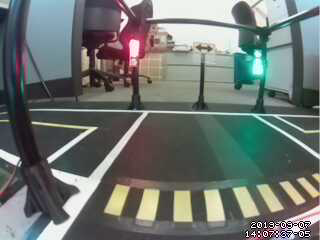Left_Right_sign: (189, 39, 222, 55)
Traffic_light_green: (251, 49, 265, 78)
Traffic_light_red: (129, 40, 142, 67)
